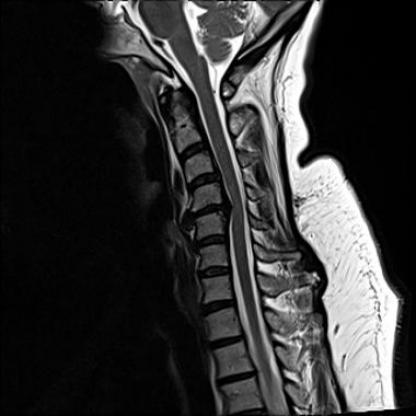Disc Bulgerotation: (187, 202, 228, 219), (186, 173, 221, 191), (177, 143, 209, 159)
Disc Protrusionrotation: (187, 202, 228, 219)
